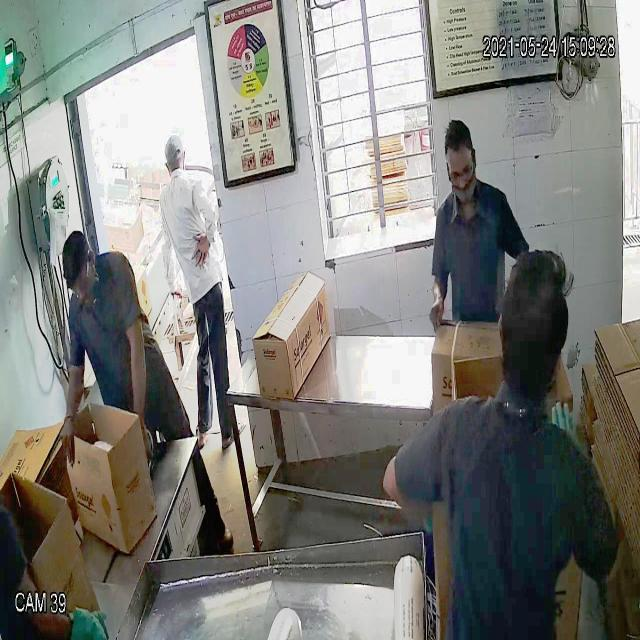glasses: (68, 254, 92, 307), (442, 154, 478, 186)
